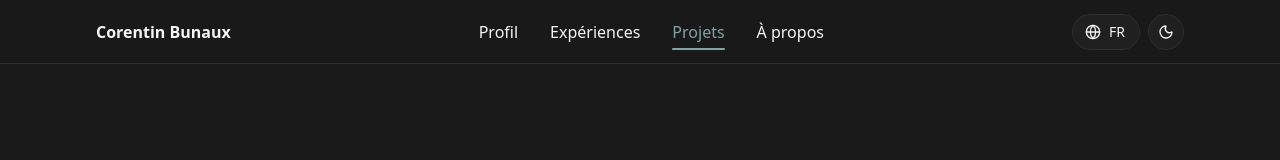
Test: SiteHeader — theme toggle › offers the opposite theme and switches the page theme
This screenshot has width=1280, height=160.
Expected: the icon with class "lucide-moon" is shown, [1158,24,1174,40]
Click the button named "Passer au thème clair" at (1166, 32), box [1148,14,1184,50]
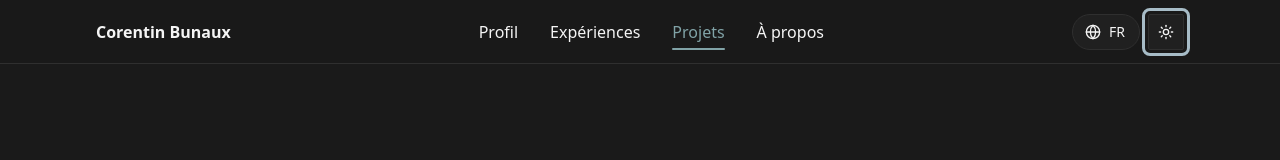
Result: the icon with class "lucide-sun" is shown at [1158,24,1174,40]
